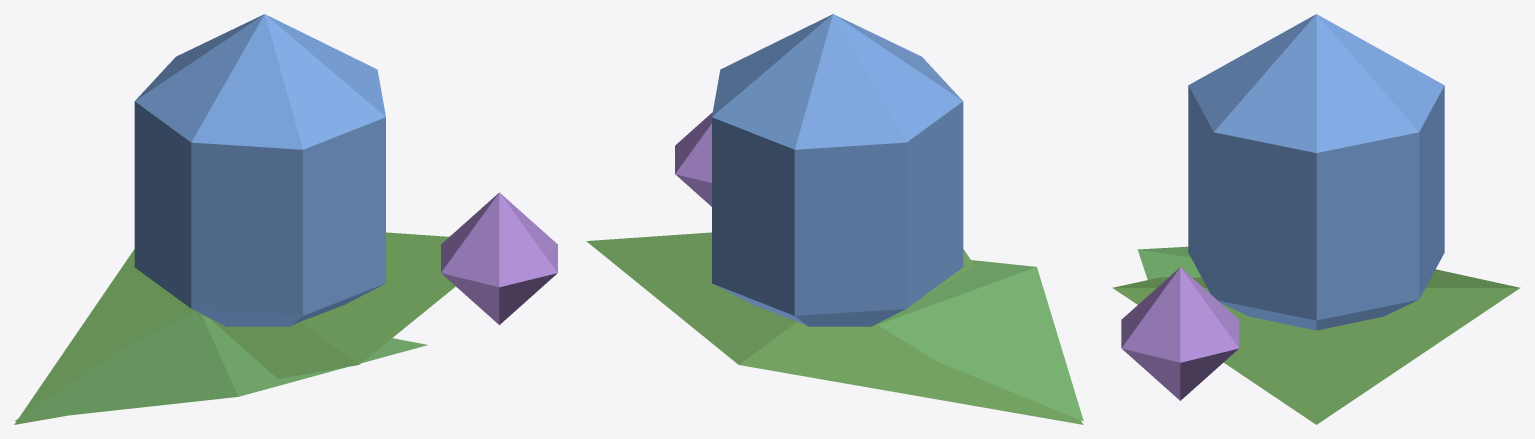
File: deco_dew_drop.obj
3 views of the same model, side by side, from view 1: azimuth 30°, elevation 25°; view 2: azimuth 150°, elevation 25°; view 3: azimuth 270°, elevation 25° (orthographic).
Parts seen in each view (by area): view 1: deco_dew_drop; view 2: deco_dew_drop; view 3: deco_dew_drop.
Boxes of the visible parts, <box> form: deco_dew_drop: <box>14,14,557,424</box>; deco_dew_drop: <box>586,14,1083,424</box>; deco_dew_drop: <box>1112,14,1520,424</box>.
Bounding box in the file's own units: 0.0298 × 0.02 × 0.021.
Materials: 1 (1 with a texture image).
